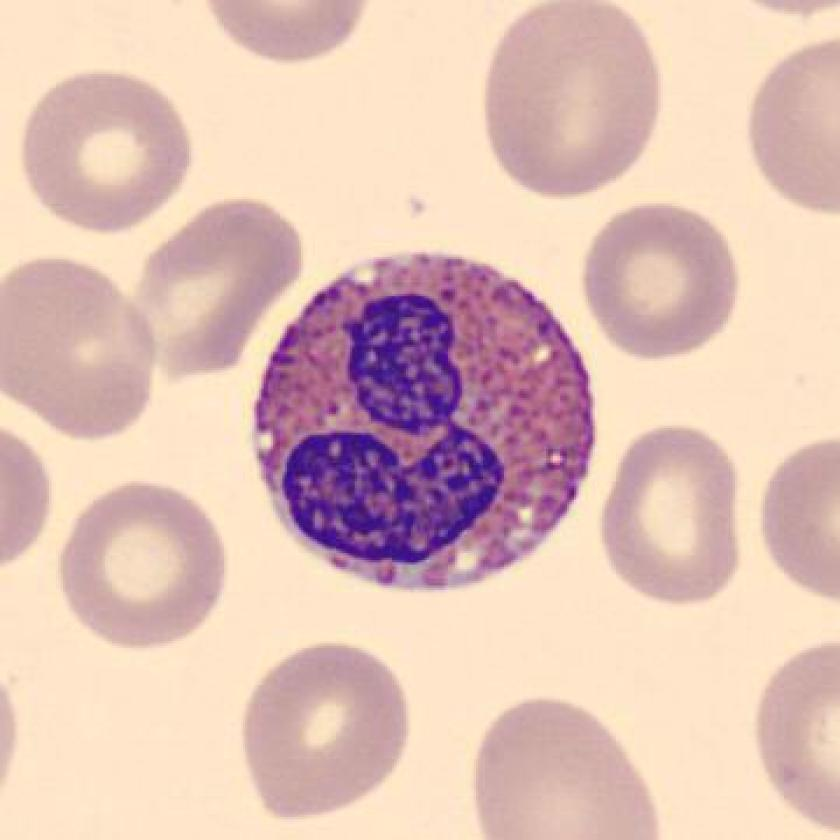eosinophil: (239, 237, 612, 605)
